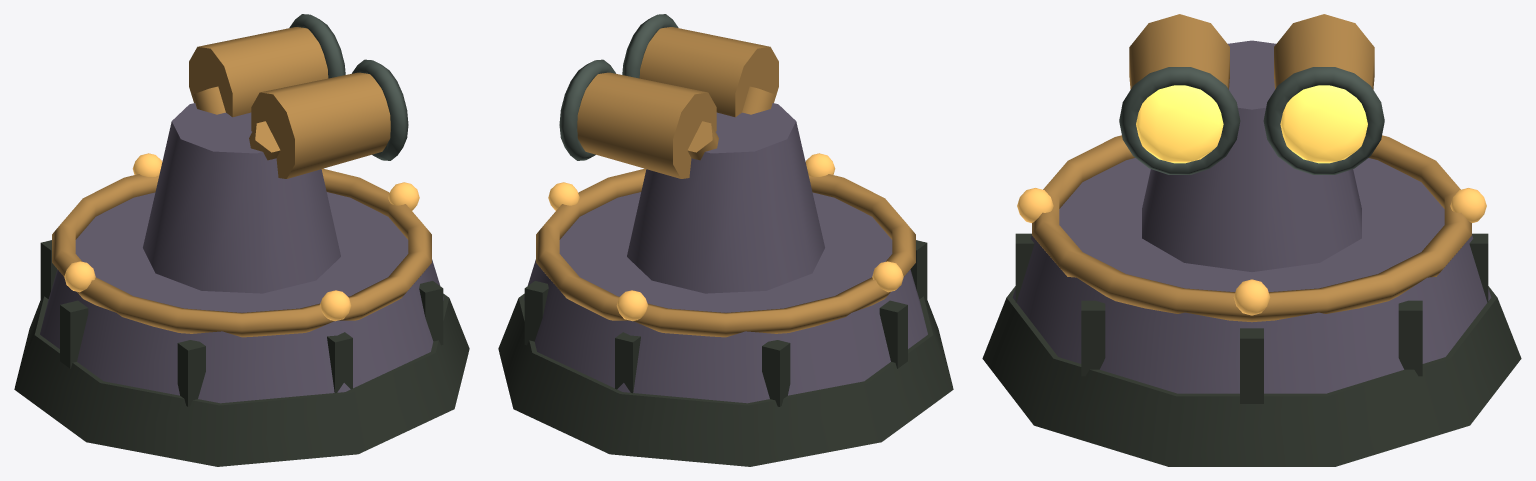
Rendered from tower_laser_laserDouble.glb.
3 views of the same model, side by side, from view 1: azimuth 30°, elevation 25°; view 2: azimuth 150°, elevation 25°; view 3: azimuth 270°, elevation 25° (orthographic). The views are drawn at different scales.
Visible parts, largest first — view 1: stone_1, foot_0, column_15, rim_2, lens_housing_17, lens_housing_21, focus_ring_18, mortar_6, mortar_7, focus_ring_22, mortar_5, mortar_4 (+7 smaller); view 2: stone_1, foot_0, column_15, rim_2, lens_housing_21, lens_housing_17, focus_ring_22, mortar_8, mortar_7, focus_ring_18, mortar_9, mortar_10 (+7 smaller); view 3: stone_1, foot_0, column_15, rim_2, lens_glass_19, lens_glass_23, focus_ring_18, focus_ring_22, lens_housing_17, lens_housing_21, mortar_3, mortar_4 (+6 smaller).
Part boxes in pixels (<box>): stone_1: <box>40,192,443,403</box>; foot_0: <box>14,293,469,466</box>; column_15: <box>143,103,340,293</box>; rim_2: <box>52,168,431,337</box>; lens_housing_17: <box>251,72,390,178</box>; lens_housing_21: <box>189,27,328,117</box>; focus_ring_18: <box>352,59,408,160</box>; mortar_6: <box>177,340,205,406</box>; mortar_7: <box>60,300,88,368</box>; focus_ring_22: <box>289,14,345,78</box>; mortar_5: <box>327,332,352,393</box>; mortar_4: <box>419,281,443,345</box>; stone_1: <box>524,192,927,403</box>; foot_0: <box>498,293,953,466</box>; column_15: <box>627,103,824,293</box>; rim_2: <box>536,168,915,337</box>; lens_housing_21: <box>577,72,716,178</box>; lens_housing_17: <box>639,27,778,117</box>; focus_ring_22: <box>559,59,615,160</box>; mortar_8: <box>762,340,790,406</box>; mortar_7: <box>879,300,907,368</box>; focus_ring_18: <box>622,14,678,78</box>; mortar_9: <box>615,332,640,393</box>; mortar_10: <box>524,281,548,345</box>; stone_1: <box>1012,158,1491,393</box>; foot_0: <box>982,286,1521,466</box>; column_15: <box>1142,40,1361,271</box>; rim_2: <box>1032,135,1471,322</box>; lens_glass_19: <box>1136,85,1223,163</box>; lens_glass_23: <box>1280,85,1367,163</box>; focus_ring_18: <box>1119,67,1240,174</box>; focus_ring_22: <box>1263,67,1384,174</box>; lens_housing_17: <box>1129,14,1229,89</box>; lens_housing_21: <box>1274,14,1374,89</box>; mortar_3: <box>1240,328,1263,403</box>; mortar_4: <box>1081,300,1105,376</box>.
Size of the model in its own units: 0.5326 by 0.402 by 0.56.
